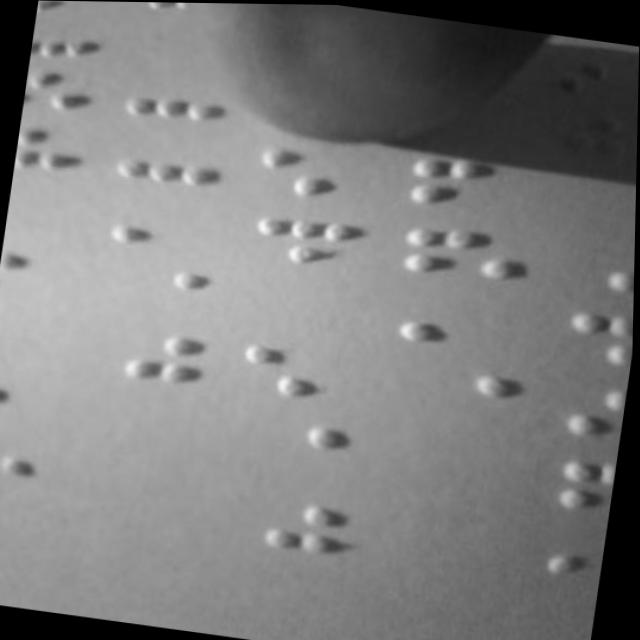braiile: (398, 144, 530, 221), (231, 332, 362, 409), (398, 214, 526, 290), (392, 282, 517, 358), (249, 138, 373, 209), (122, 50, 232, 130), (247, 202, 364, 277), (102, 184, 214, 258), (113, 123, 222, 192), (0, 238, 68, 305), (12, 119, 83, 182), (21, 62, 94, 122), (29, 7, 98, 66), (0, 311, 50, 375), (0, 375, 49, 440)
